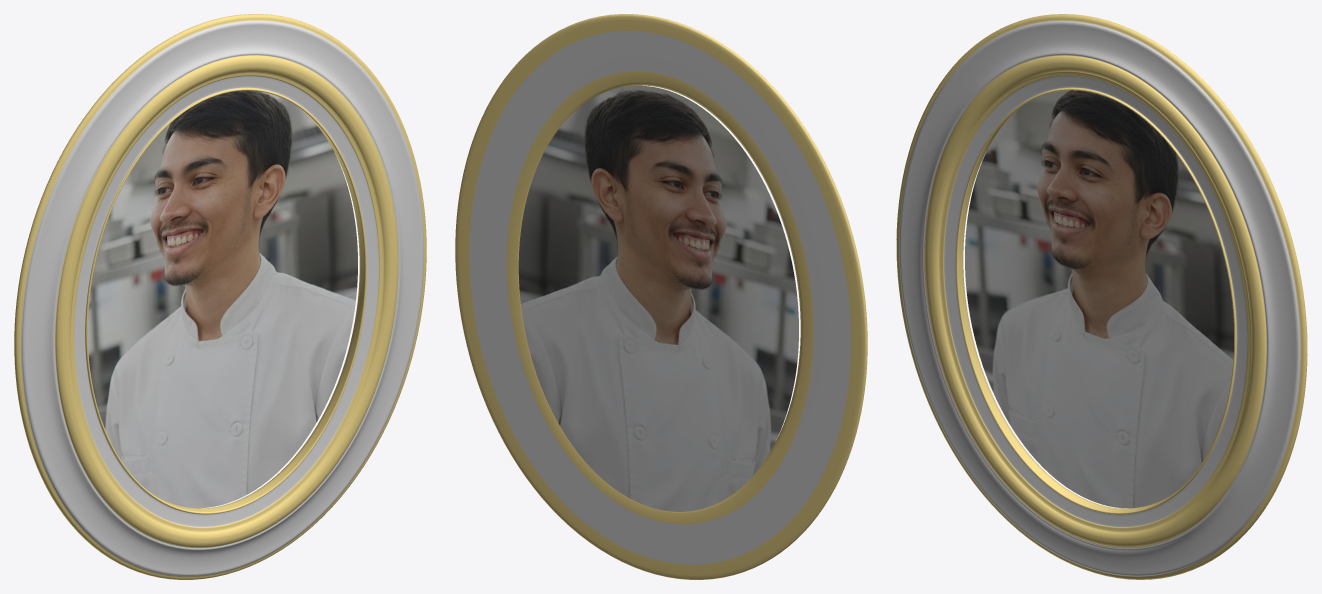
The model's file is quadro oval.fbx.
The picture shows the model from 3 angles, left to right: view 1: azimuth 30°, elevation 25°; view 2: azimuth 150°, elevation 25°; view 3: azimuth 330°, elevation 25°; orthographic projection.
Parts seen in each view (by area): view 1: Quadro redondo; view 2: Quadro redondo; view 3: Quadro redondo.
Boxes of the visible parts, box(x1,y1,x2,y2) form: Quadro redondo: box(14, 14, 426, 579); Quadro redondo: box(455, 14, 867, 579); Quadro redondo: box(896, 14, 1307, 579).
Bounding box in the file's own units: 65.84 × 85.18 × 3.06.
Materials: 4 (1 with a texture image).
